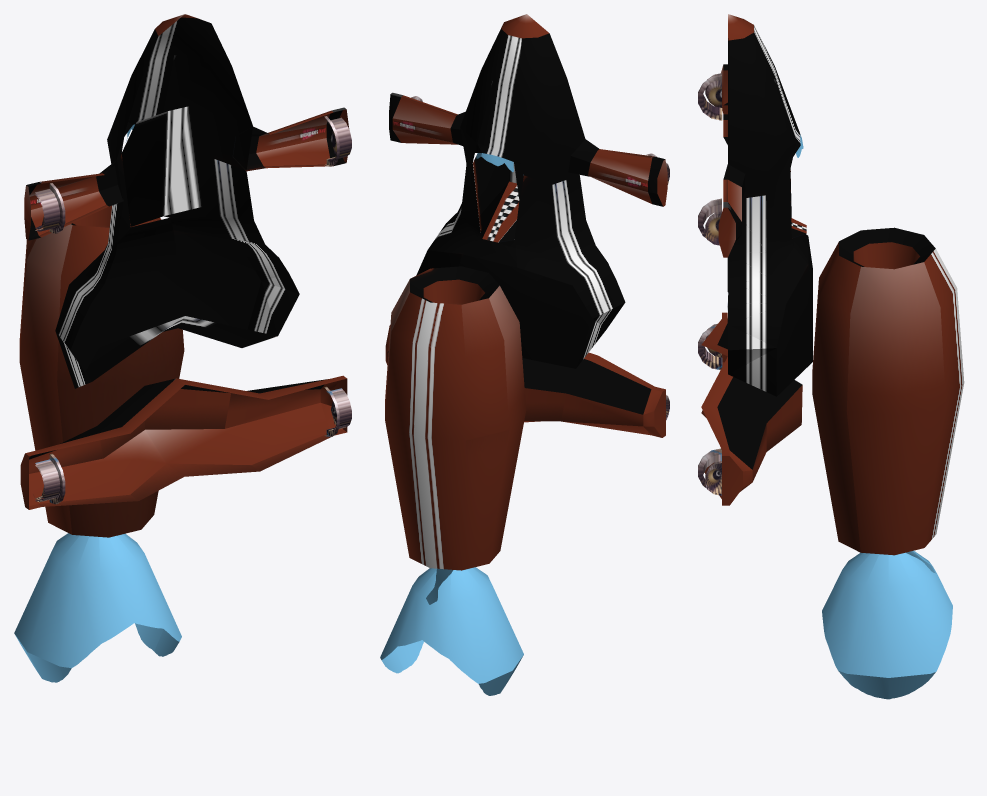
The model's file is speedwagon.obj.
3 views of the same model, side by side, from view 1: azimuth 30°, elevation 25°; view 2: azimuth 150°, elevation 25°; view 3: azimuth 270°, elevation 25° (orthographic). The views are drawn at different scales.
Parts seen in each view (by area): view 1: g0; view 2: g0; view 3: g0.
Boxes of the visible parts, x1,y1,x2,y2 form: g0: (14,14,351,682); g0: (380,14,669,695); g0: (698,14,964,699).
Bounding box in the file's own units: 779 × 1945 × 631.
Materials: 3 (3 with a texture image).
